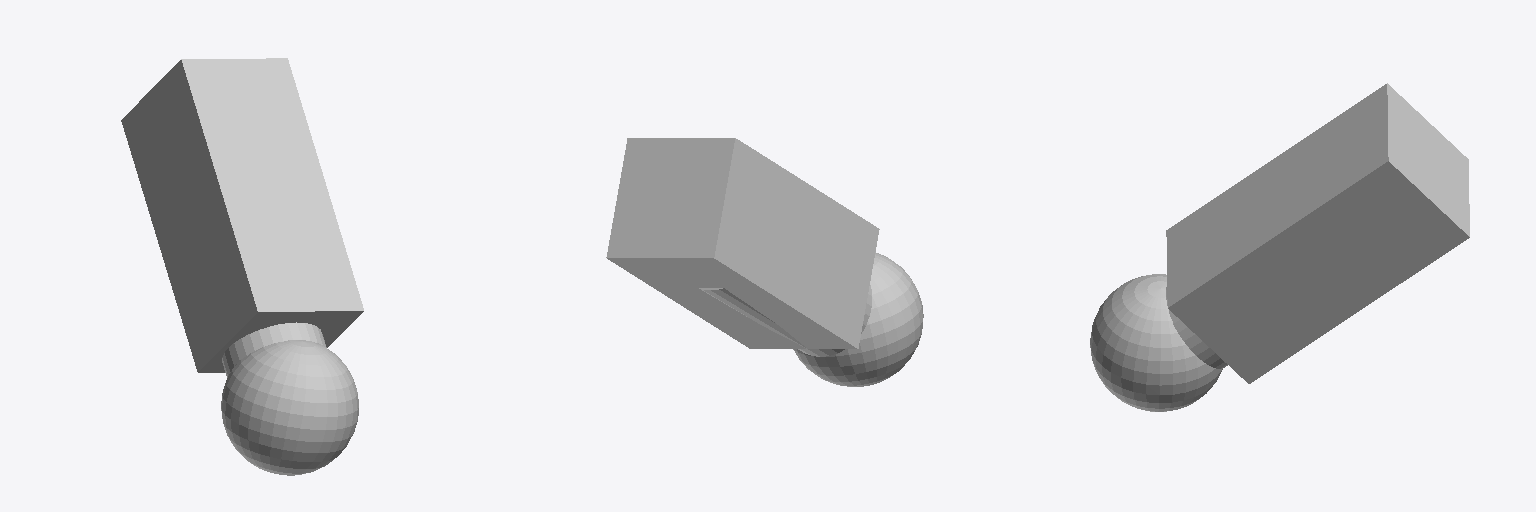
Rendered from rightforearm.obj.
3 renders of one model, left to right at view 1: azimuth 30°, elevation 25°; view 2: azimuth 150°, elevation 25°; view 3: azimuth 270°, elevation 25°, orthographic.
Parts seen in each view (by area): view 1: rightforearm_ArmLeftLower.001; view 2: rightforearm_ArmLeftLower.001; view 3: rightforearm_ArmLeftLower.001.
Boxes of the visible parts, box(x1,y1,x2,y2) form: rightforearm_ArmLeftLower.001: box(121, 58, 363, 475); rightforearm_ArmLeftLower.001: box(606, 138, 923, 386); rightforearm_ArmLeftLower.001: box(1090, 83, 1469, 411).
Size of the model in its own units: 0.4204 by 0.7583 by 0.8033.